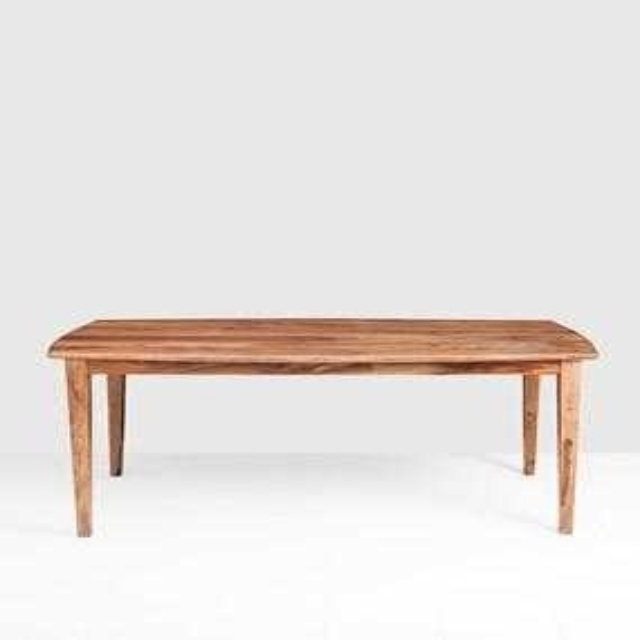obstacle: (47, 318, 595, 536)
